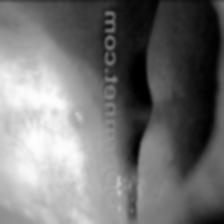Toxin: (117, 172, 143, 224)
